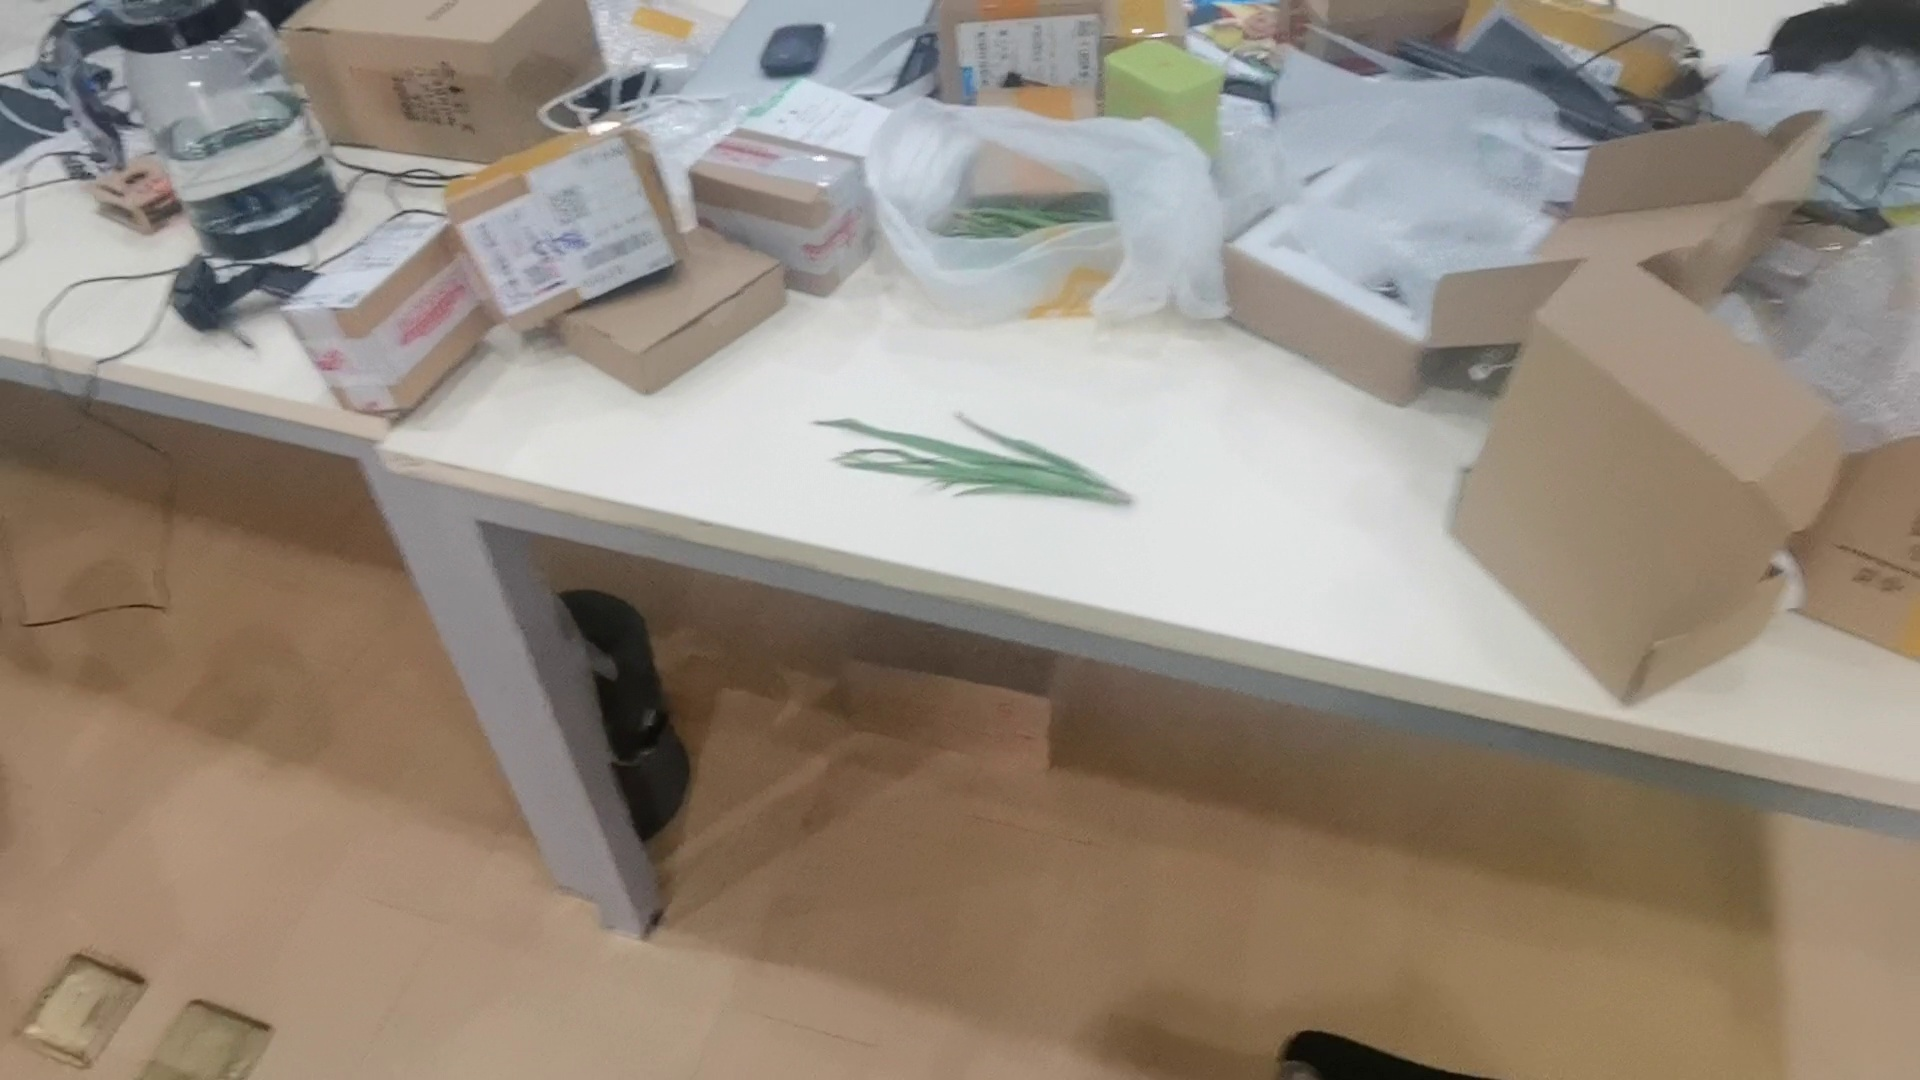chives: (812, 405, 1139, 509)
